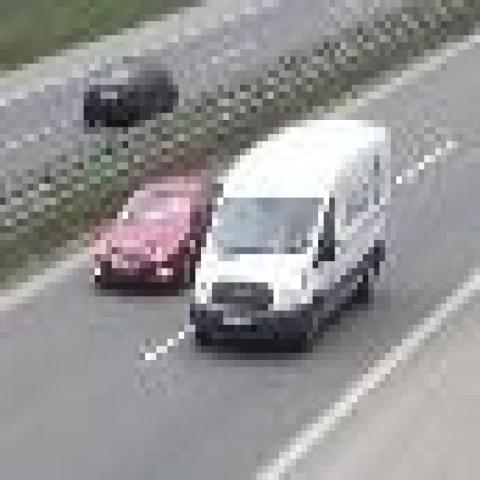car: (89, 173, 218, 293), (84, 60, 179, 130)
van: (193, 120, 388, 346)
